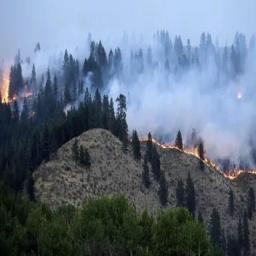Low smoke: (47, 24, 236, 135), (22, 26, 48, 83)
Medium fire: (0, 66, 34, 105)
Small fire: (133, 129, 256, 183), (237, 90, 243, 100)
